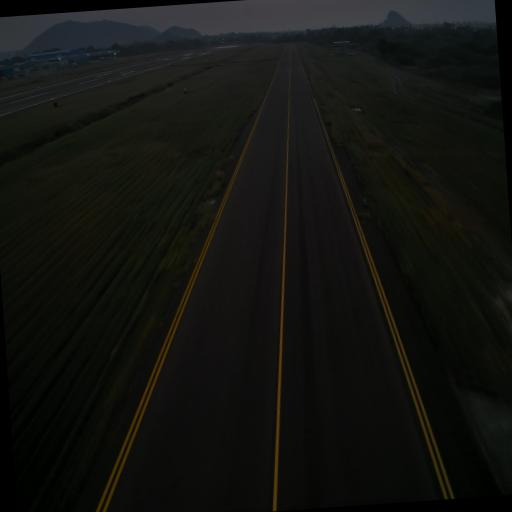on: (210, 195, 216, 203), (362, 197, 368, 204)
